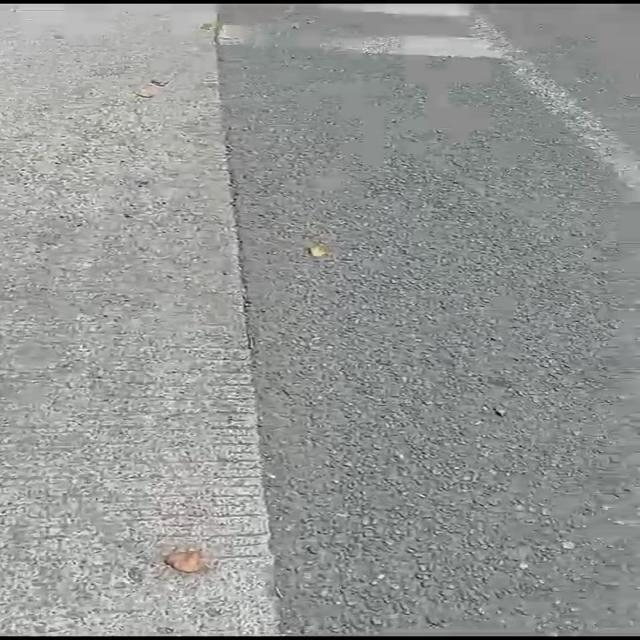Sambungan: (0, 0, 280, 638)
